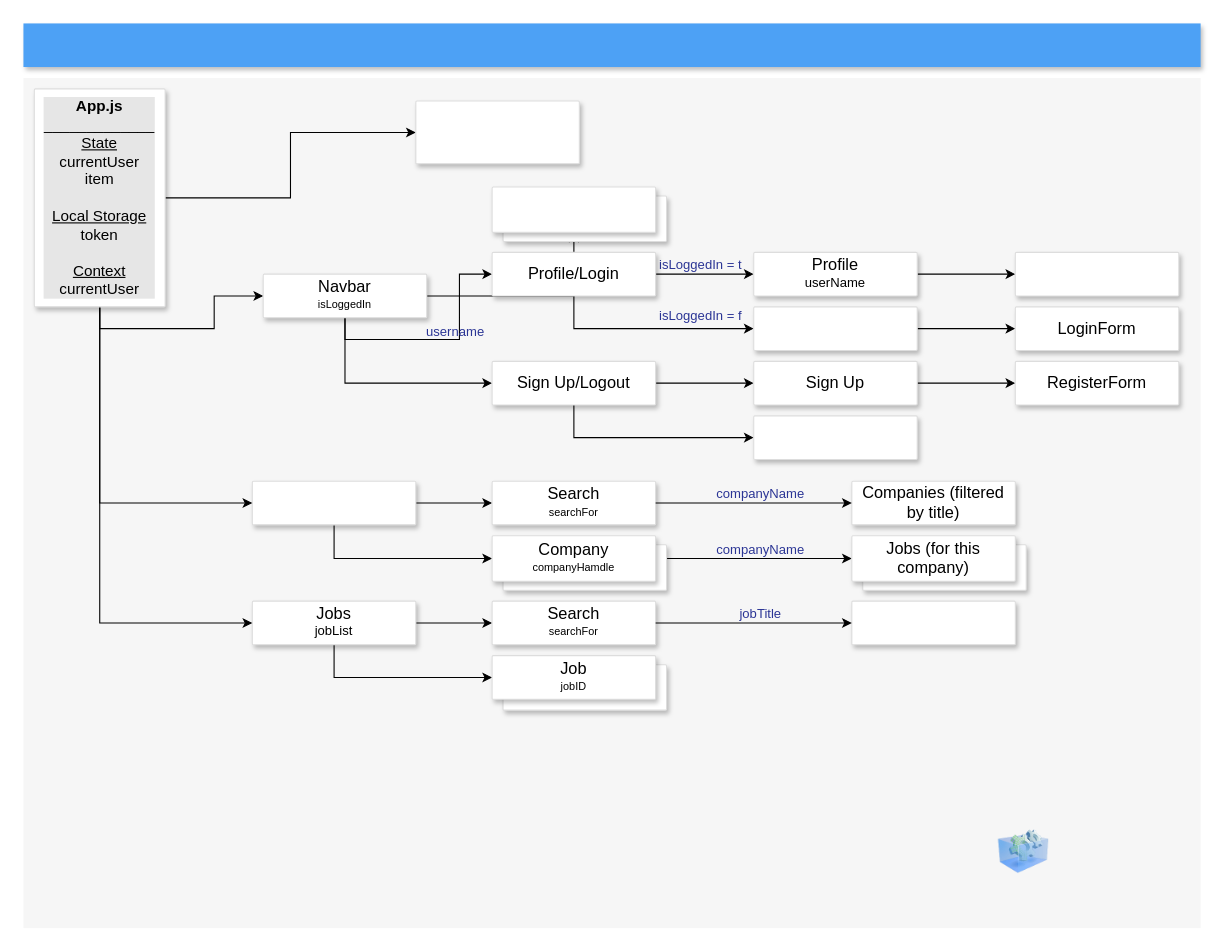
Some shapes in this 1225 by 946 pixel diagram are drawn without their labels. Here are the shapes that lost their labels. From the top down, the centre of each, then its label:
(613,46): Jobly - React Component Diagram
(498,133): Welcome userName, firstName, lastName
(574,210): NavLink
(1097,275): ModifyUser
(836,329): Login
(836,438): Logout
(334,504): Companies companyList
(934,624): Jobs (filtered by title)
